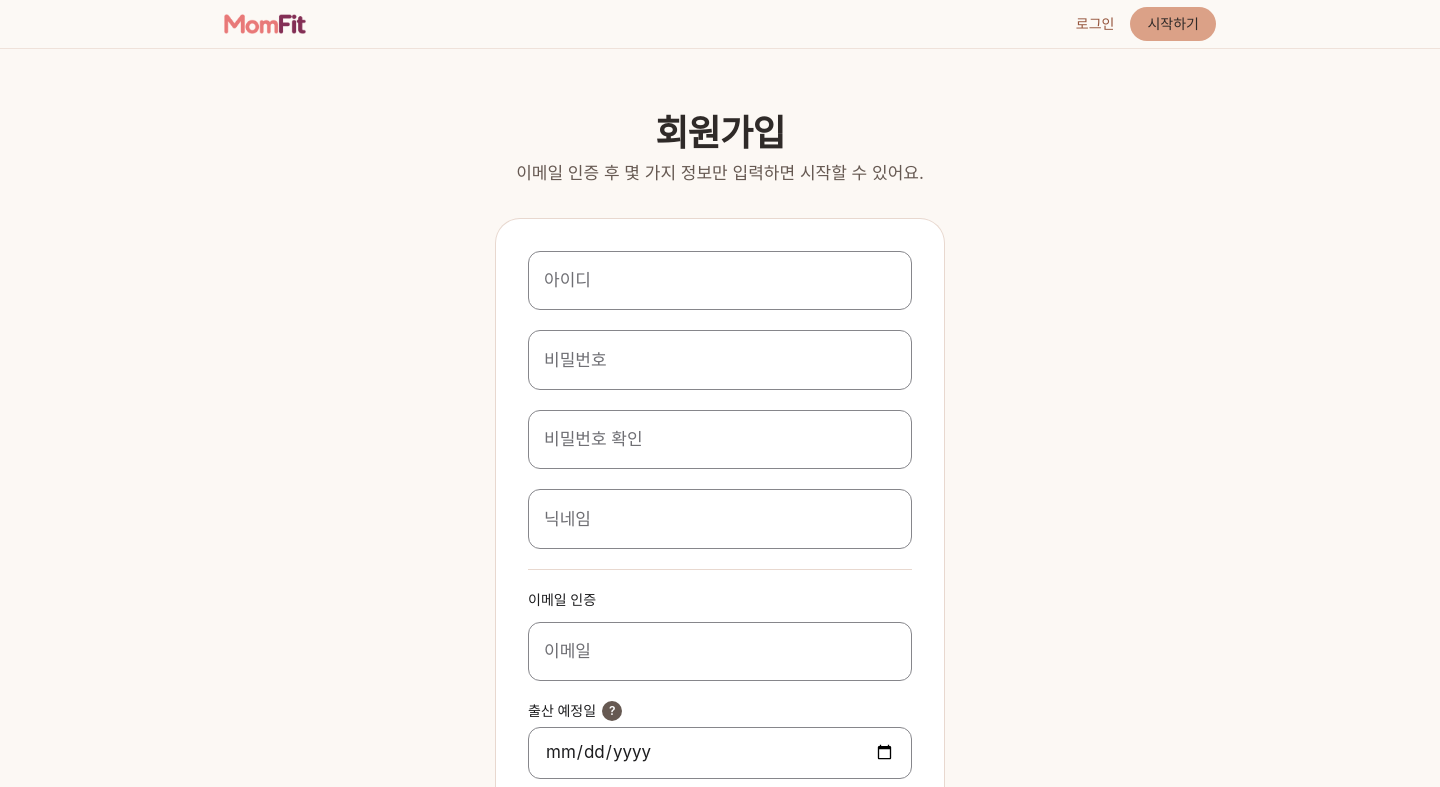
Test: 회원가입 - 입력 중 형식 검사 › 인증 코드가 6자리가 아니면 벗어날 때 오류를 보여준다
Type "mom@example.com" into the field labelled "이메일". click: (720, 651)
box: [528,622,912,681]
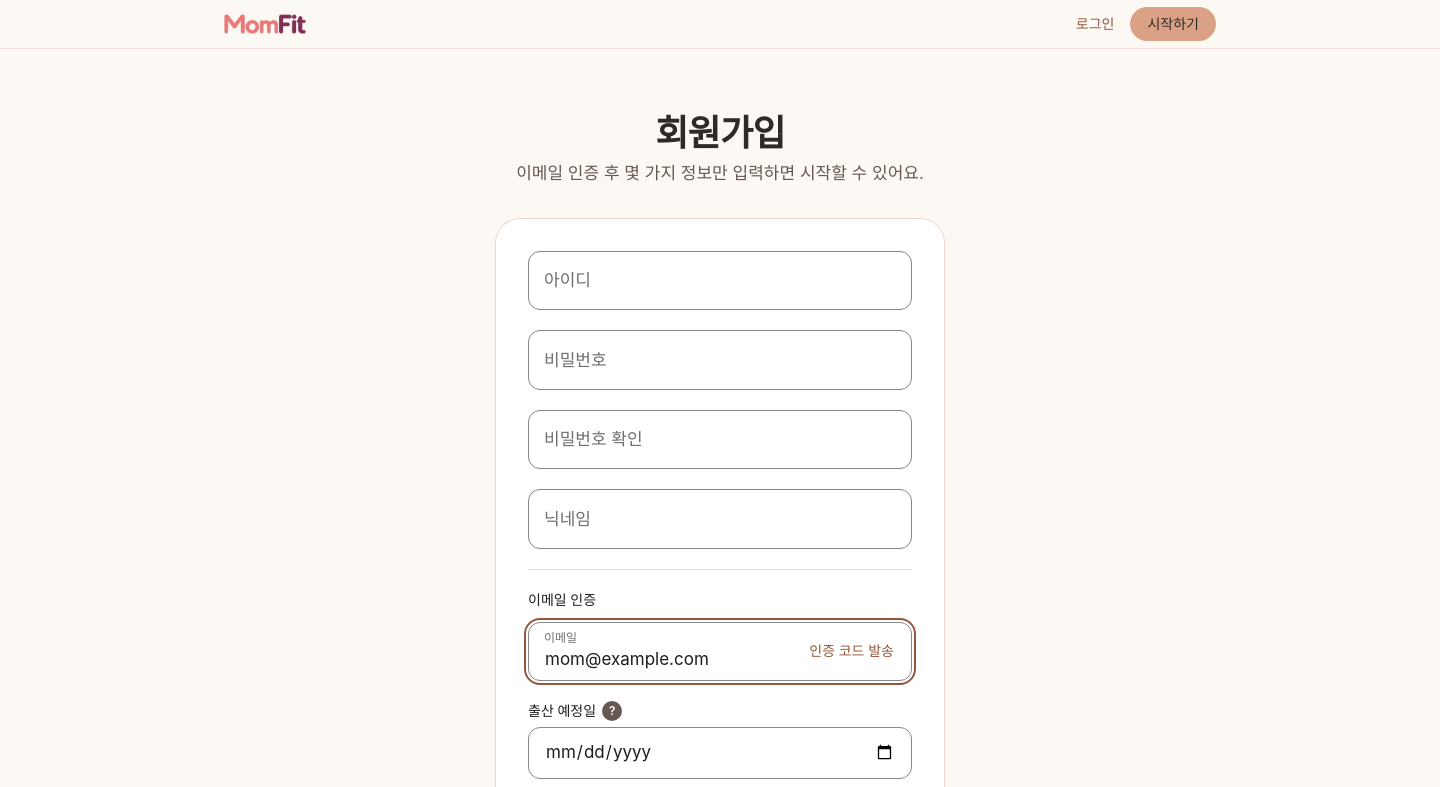
Click the button "인증 코드 발송". click: (852, 651)
box: [803,637,900,665]
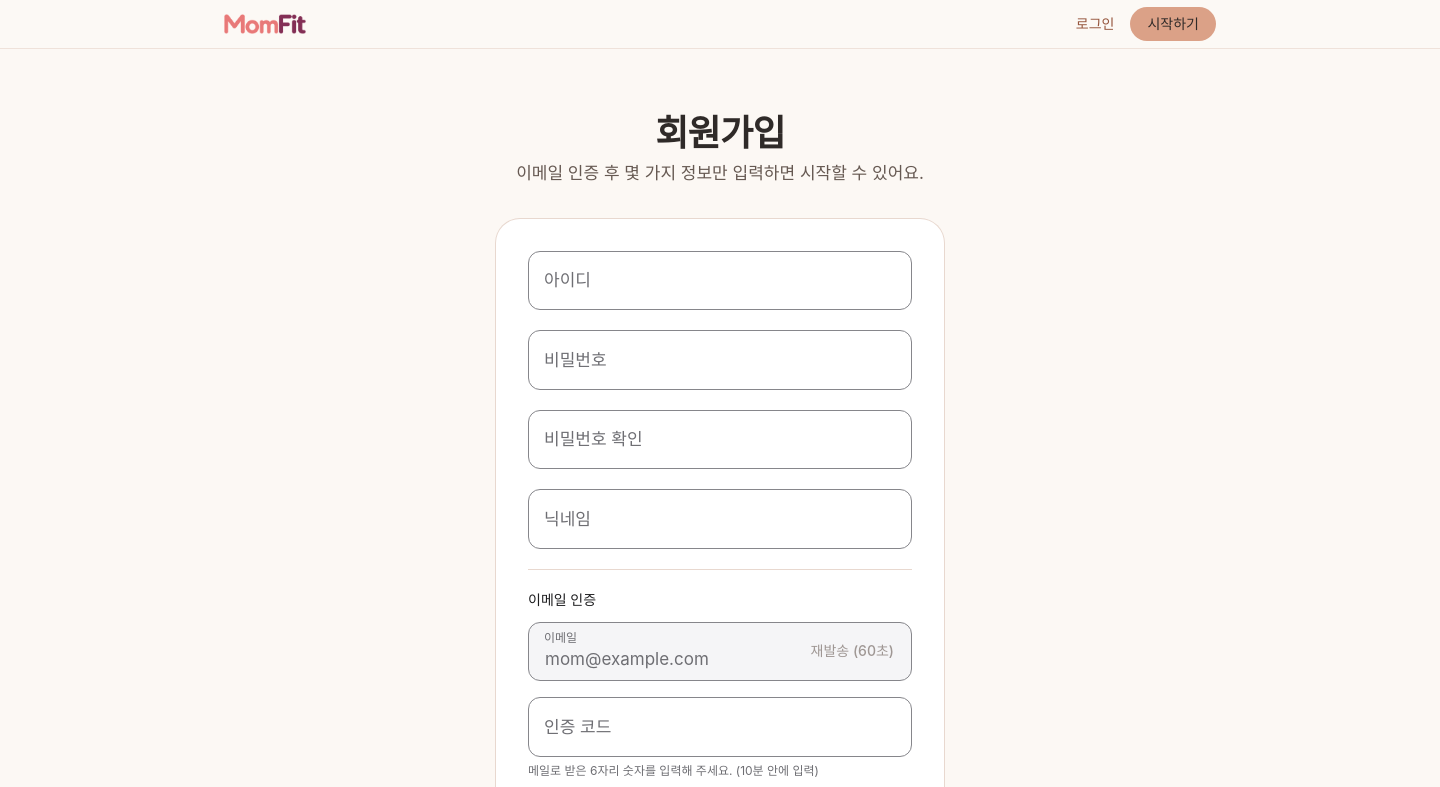
Type "12" into the field labelled "인증 코드". click: (720, 727)
box: [528,697,912,756]
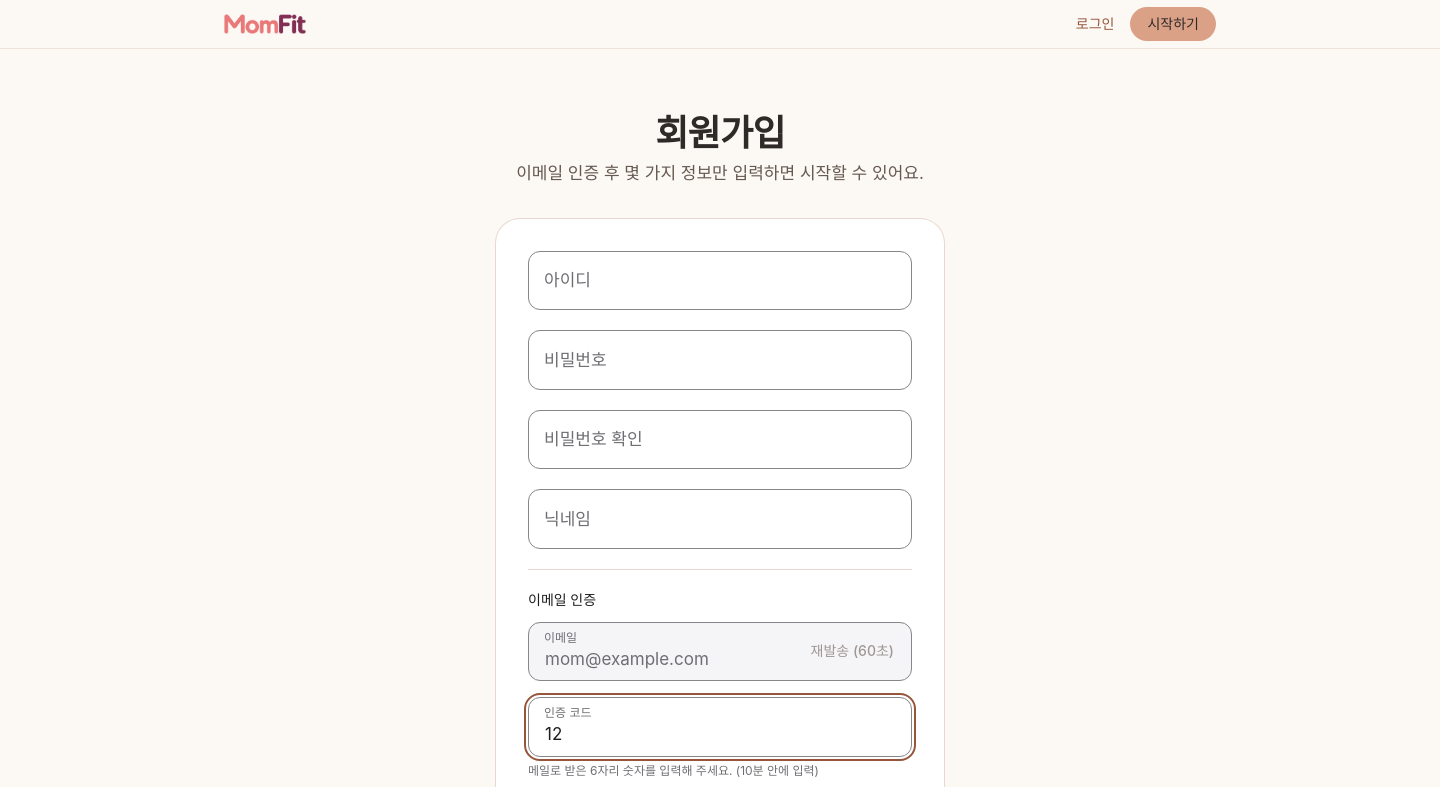
Press Tab
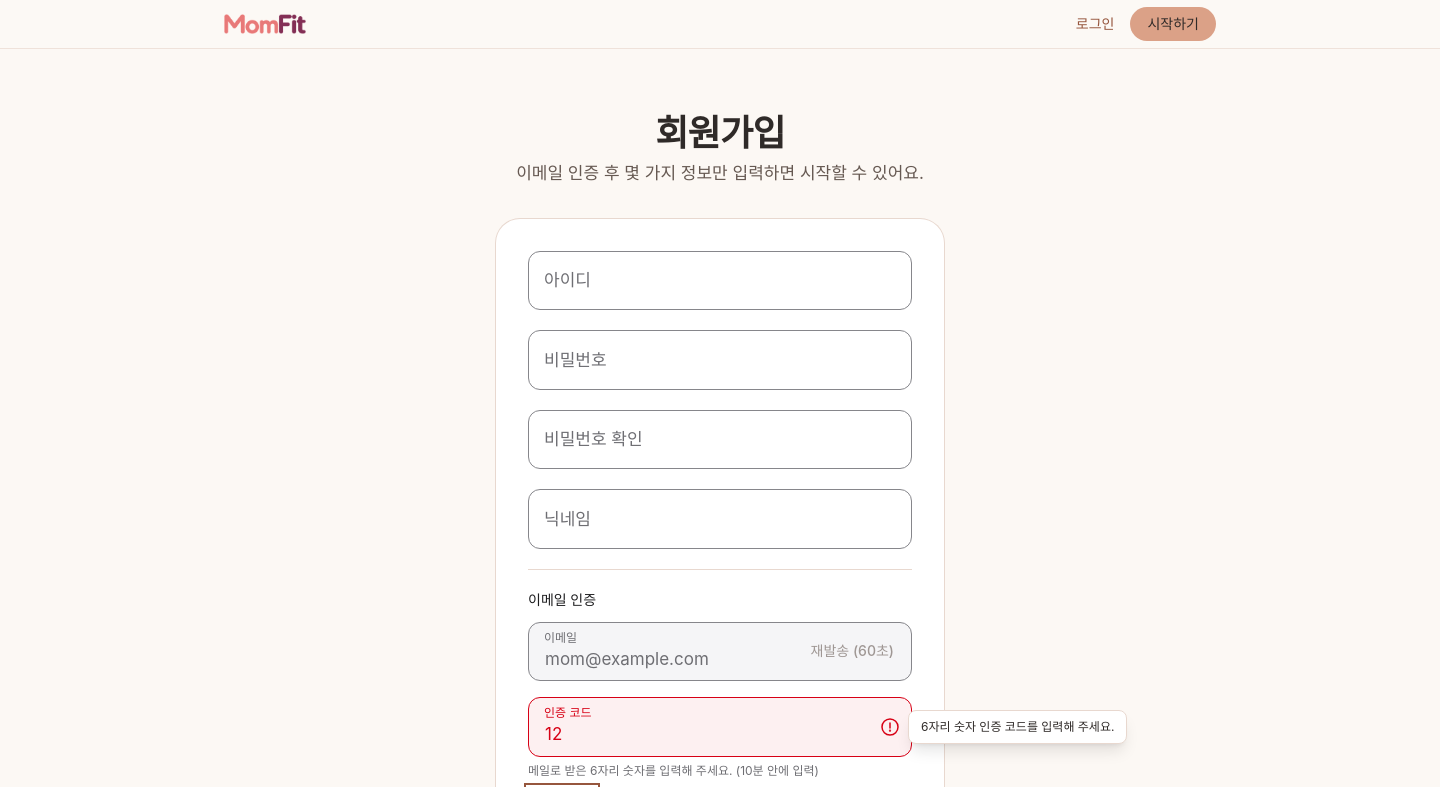
Type "3456" into the field labelled "인증 코드". click: (720, 727)
box: [528,697,912,756]
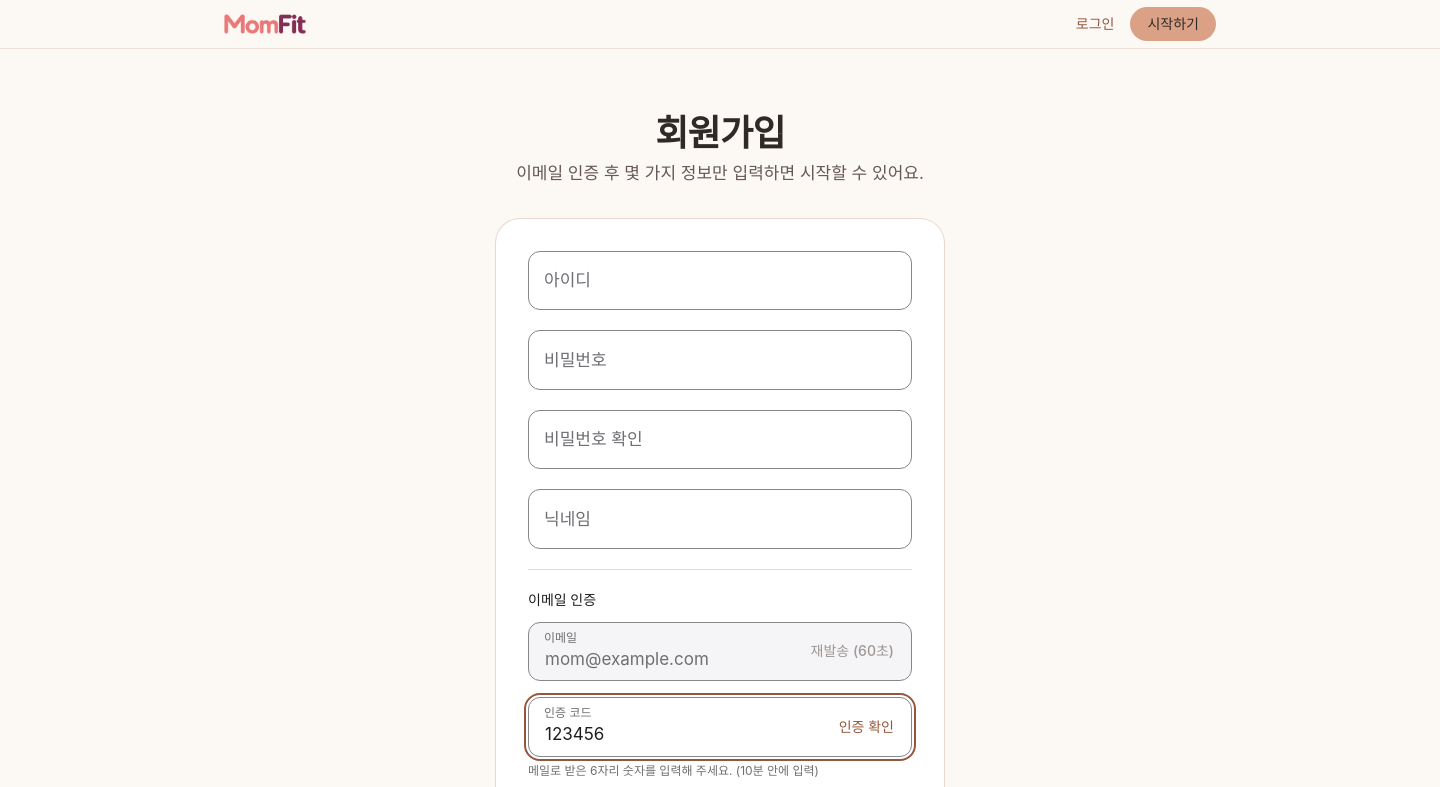
Check: the tooltip "6자리 숫자 인증 코드를 입력해 주세요." is gone
